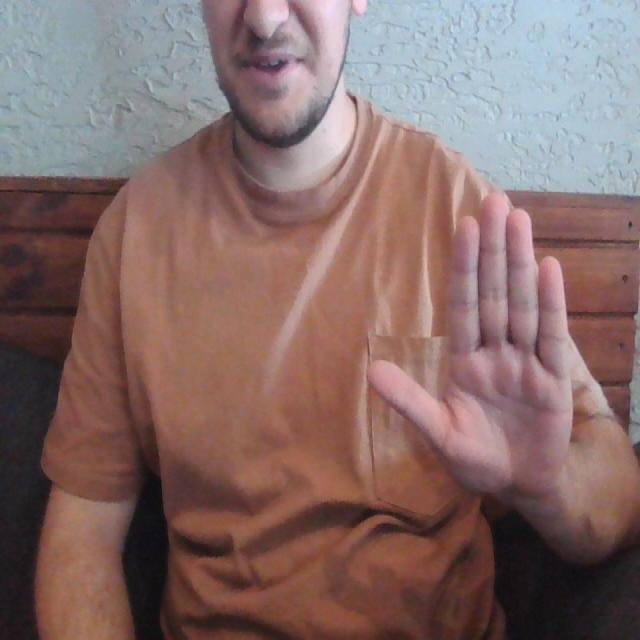Dur: (351, 161, 582, 518)
